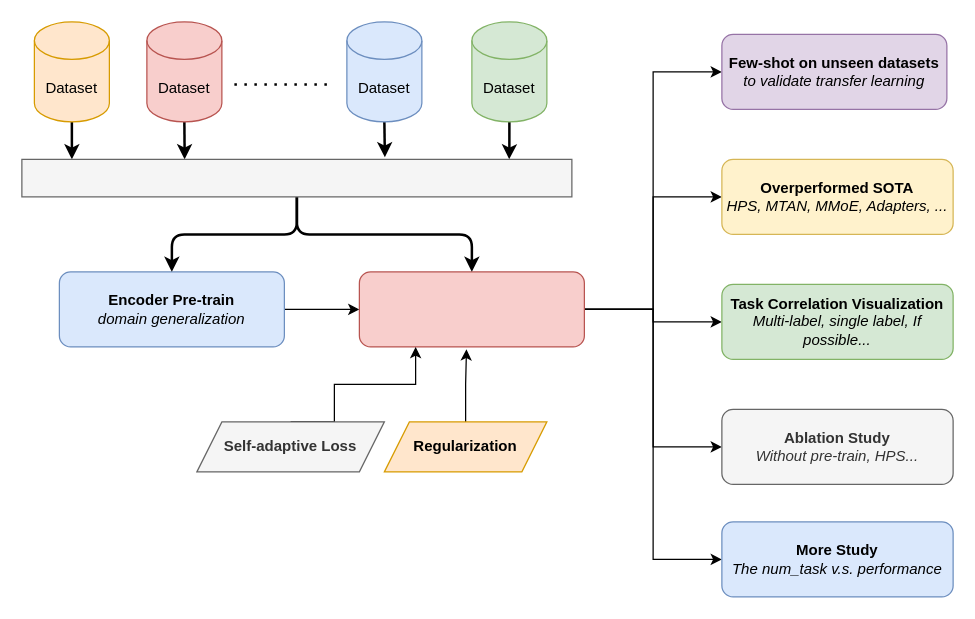
This 975x619 diagram has some shape labels left out. Here are the shapes that lost their labels. From the top down, the centre of each, then its label:
At (296,177): "Pre-process".
At (471,309): "Multi-source MTL Multi-source fuse+MTL".
